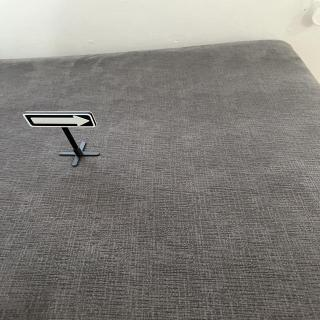sign_oneway_right: (23, 111, 99, 130)
